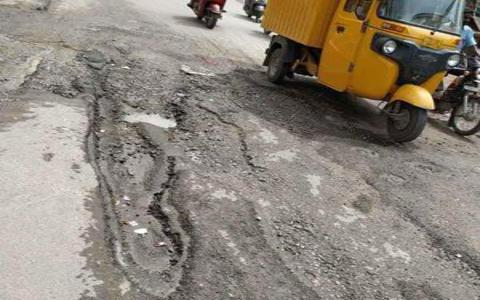patchy roads: (55, 57, 277, 289)
